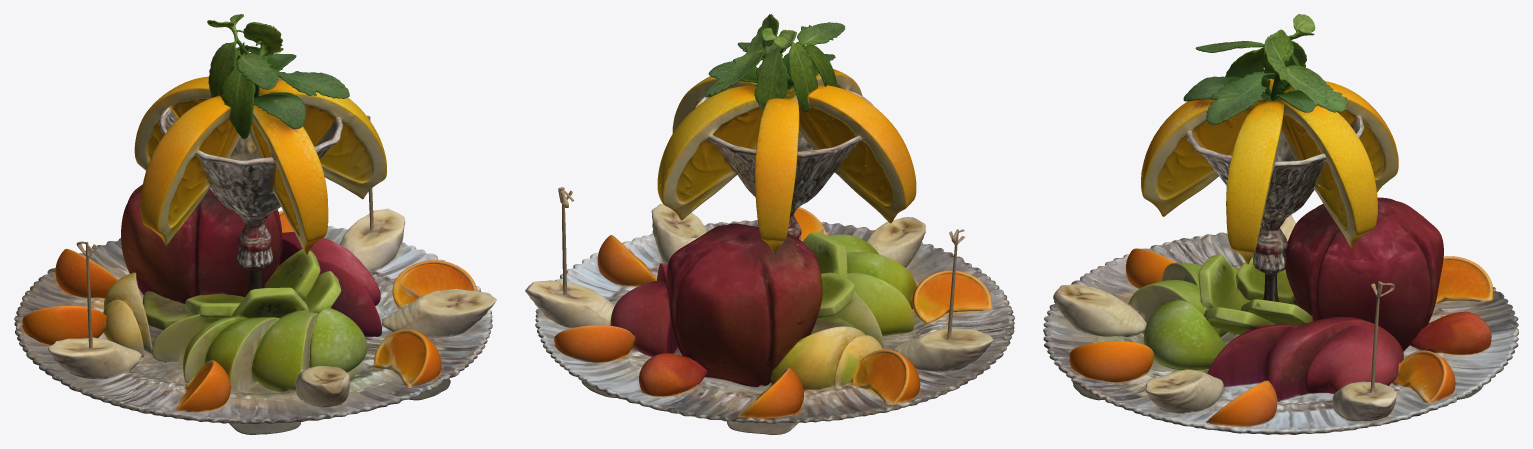
Rendered from meva-a.glb.
The picture shows the model from 3 angles, left to right: view 1: azimuth 30°, elevation 25°; view 2: azimuth 150°, elevation 25°; view 3: azimuth 270°, elevation 25°; orthographic projection.
Parts seen in each view (by area): view 1: meva1; view 2: meva1; view 3: meva1.
Part boxes in pixels (bbox=[...]): meva1: bbox=[14, 14, 496, 434]; meva1: bbox=[525, 14, 1014, 434]; meva1: bbox=[1043, 14, 1518, 434].
Size of the model in its own units: 0.981 by 0.7336 by 0.9652.
1 material, 1 textured.
